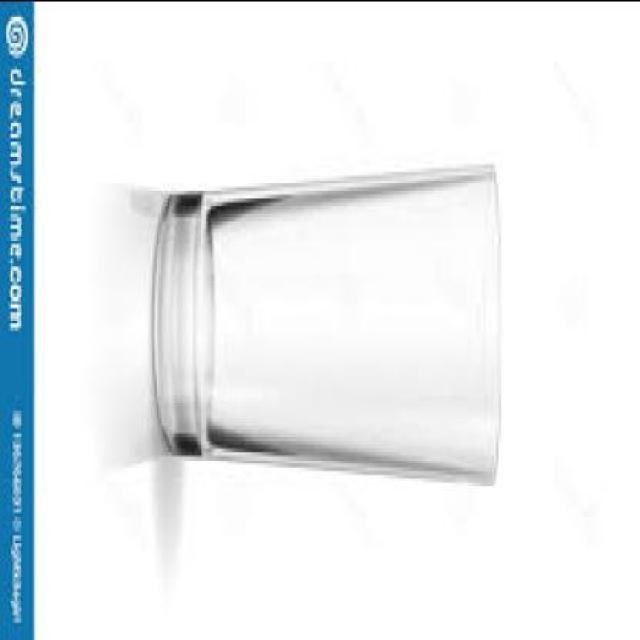glass: (159, 163, 503, 477)
